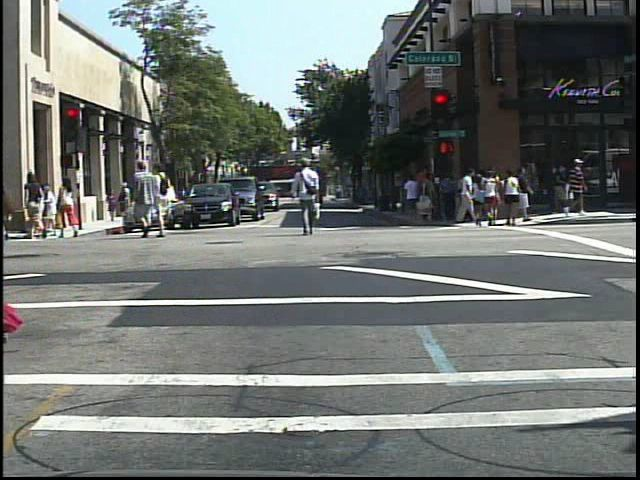person: (292, 154, 326, 241), (129, 157, 162, 242), (559, 154, 593, 218), (24, 168, 51, 244), (57, 172, 80, 240), (156, 161, 176, 239), (469, 173, 487, 231)
